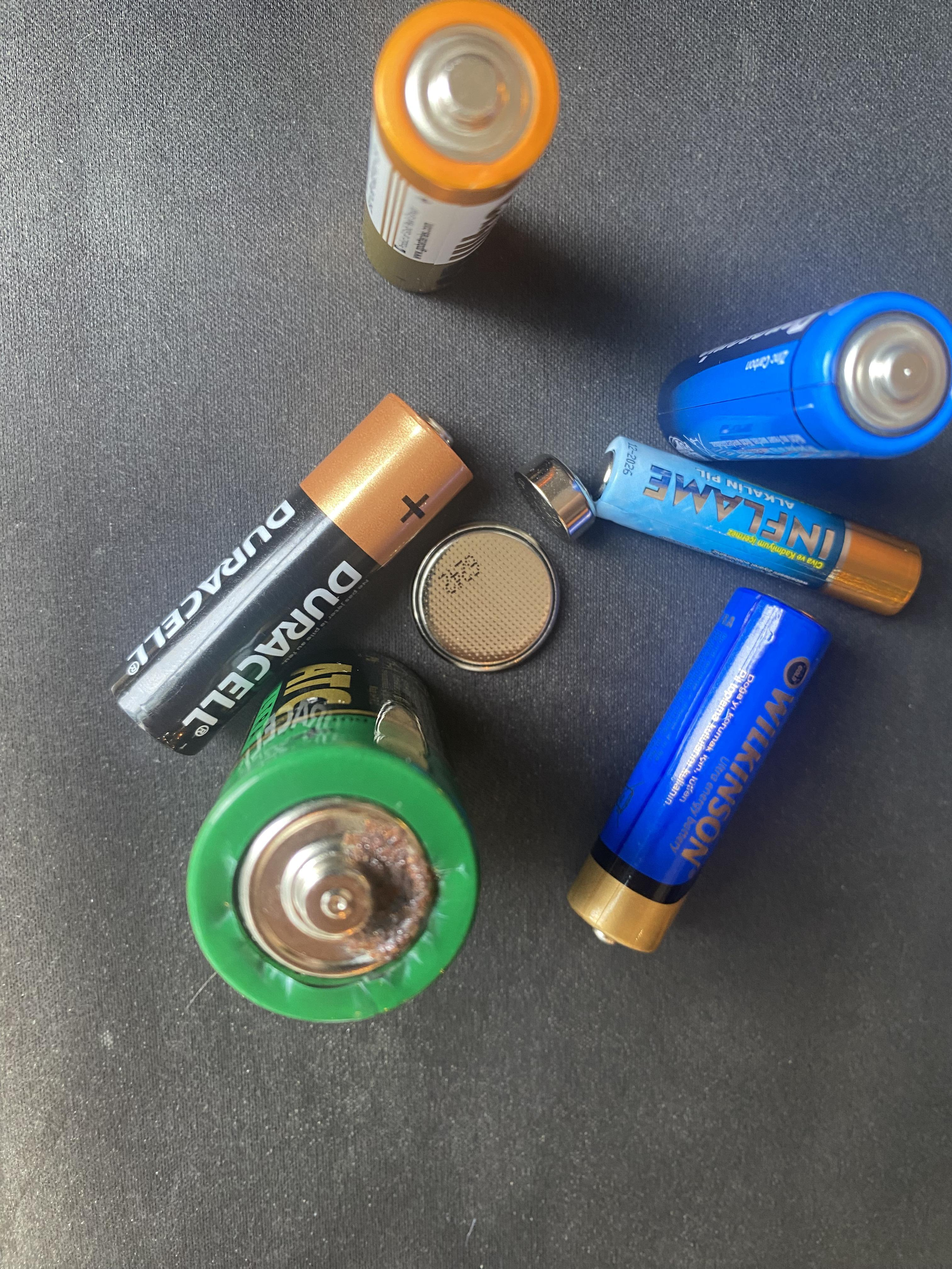AA: (98, 386, 479, 762), (559, 582, 836, 959), (589, 430, 928, 620), (355, 0, 564, 300), (648, 288, 952, 471)
COIN: (407, 520, 564, 676), (513, 447, 598, 549)
